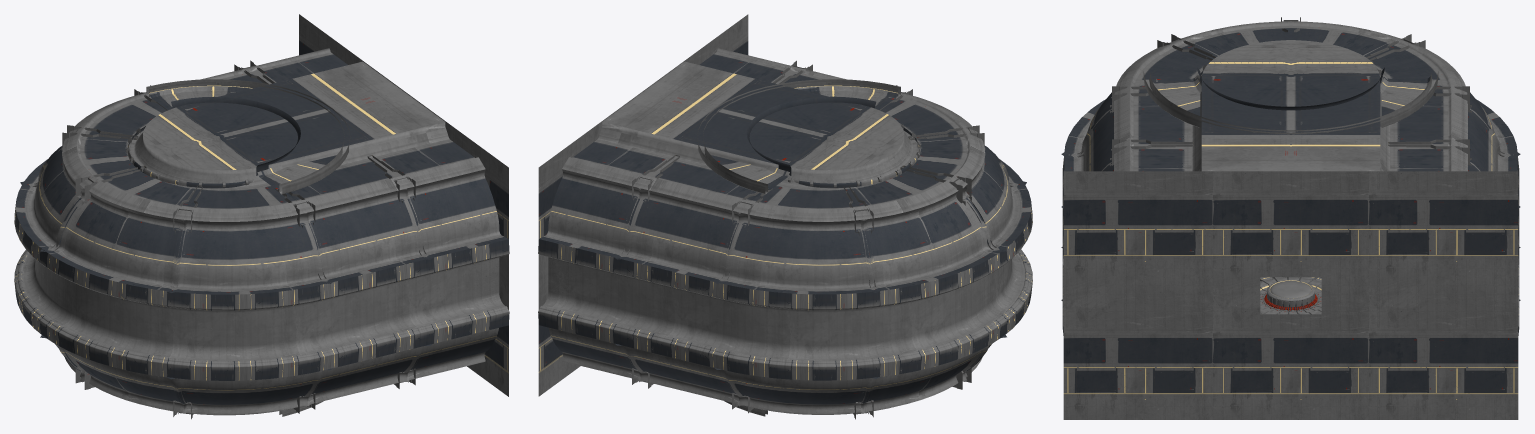
Rendered from Core.fbx.
The picture shows the model from 3 angles, left to right: view 1: azimuth 30°, elevation 25°; view 2: azimuth 150°, elevation 25°; view 3: azimuth 270°, elevation 25°; orthographic projection. The views are drawn at different scales.
Parts seen in each view (by area): view 1: Main, Core_Cylinder (2), Wall, Core_Support (7), Core_Support, Core_Support (4); view 2: Main, Core_Cylinder (2), Wall, Core_Support (7), Core_Support (6), Core_Support (2); view 3: Wall, Main, Core_Cylinder (2), Core_Cylinder, Core_Support (4), Core_Support (6).
Boxes of the visible parts, x1,y1,x2,y2 form: Main: (14, 48, 509, 415); Core_Cylinder (2): (128, 79, 350, 194); Wall: (299, 14, 508, 396); Core_Support (7): (51, 165, 146, 389); Core_Support: (32, 125, 138, 186); Core_Support (4): (367, 155, 426, 388); Main: (538, 48, 1032, 414); Core_Cylinder (2): (697, 79, 919, 194); Wall: (538, 14, 748, 396); Core_Support (7): (900, 165, 996, 389); Core_Support (6): (622, 155, 679, 388); Core_Support (2): (908, 125, 1013, 186); Wall: (1063, 171, 1518, 419); Main: (1061, 21, 1520, 335); Core_Cylinder (2): (1143, 67, 1438, 134); Core_Cylinder: (1267, 278, 1315, 310); Core_Support (4): (1109, 139, 1193, 165); Core_Support (6): (1388, 139, 1471, 165).
Size of the model in its own units: 4476 by 2780 by 4513.
